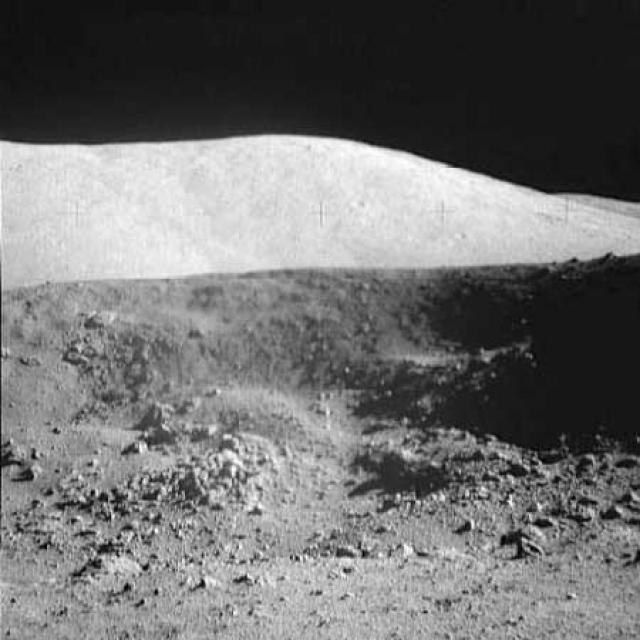rock: (76, 549, 142, 583), (83, 308, 122, 332), (144, 396, 177, 422), (148, 422, 180, 446), (4, 436, 27, 466), (190, 419, 220, 441), (391, 538, 416, 564), (332, 538, 359, 562), (120, 437, 147, 458), (22, 462, 44, 486)
